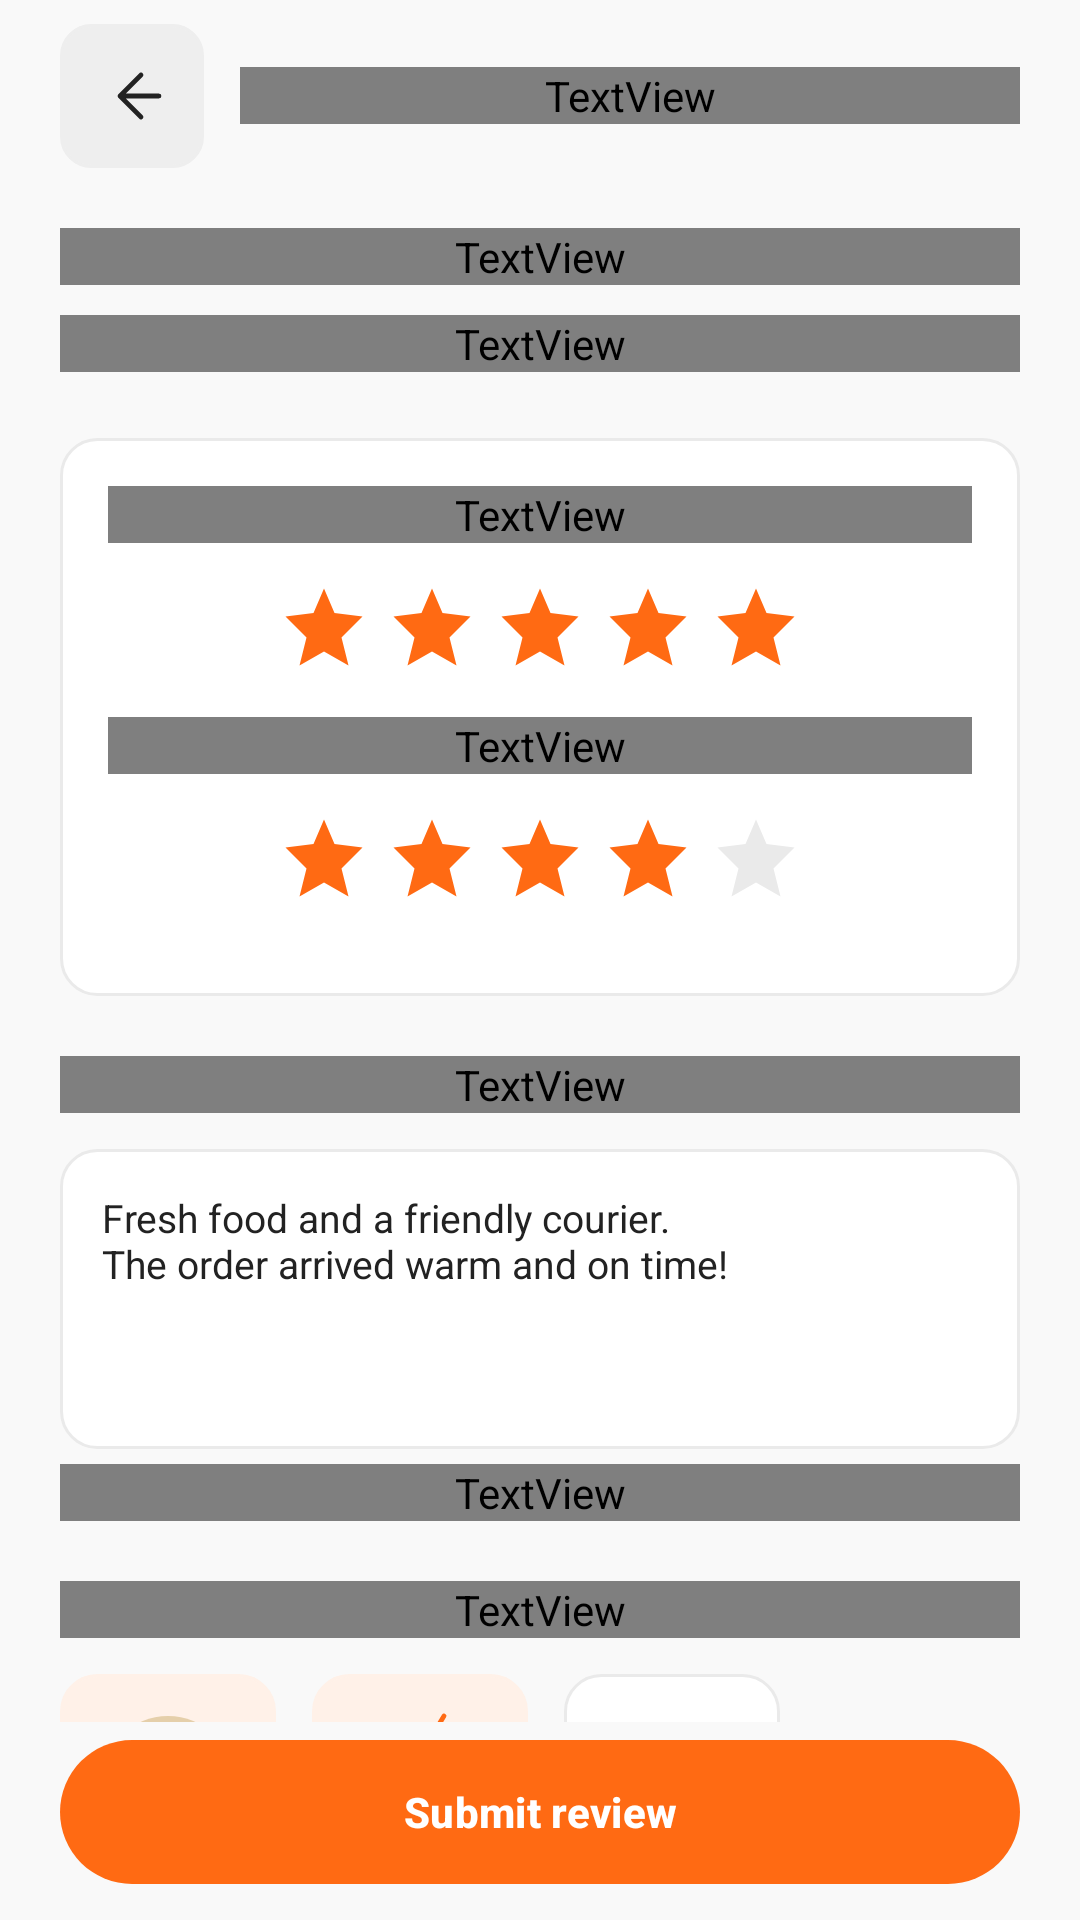

Icon click points for this 1080×1920 phone screenshot, format point (x, y):
Back: point (132, 96)
